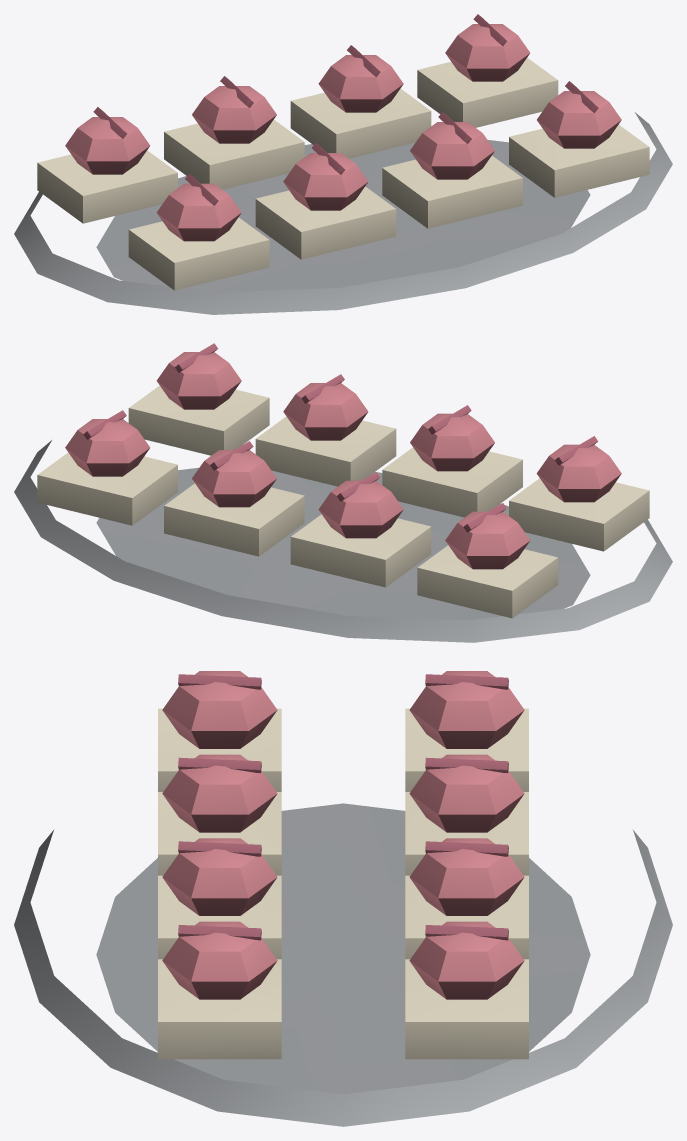
Rendered from platter_catered.glb.
3 views of the same model, one above another, from view 1: azimuth 30°, elevation 25°; view 2: azimuth 150°, elevation 25°; view 3: azimuth 270°, elevation 25° (orthographic). The views are drawn at different scales.
Parts seen in each view (by area): view 1: platter_catered; view 2: platter_catered; view 3: platter_catered.
Part boxes in pixels (bbox=[...]): platter_catered: bbox=[14, 14, 672, 314]; platter_catered: bbox=[14, 343, 672, 642]; platter_catered: bbox=[14, 671, 672, 1126].
Bounding box in the file's own units: 0.58 × 0.104 × 0.4.
